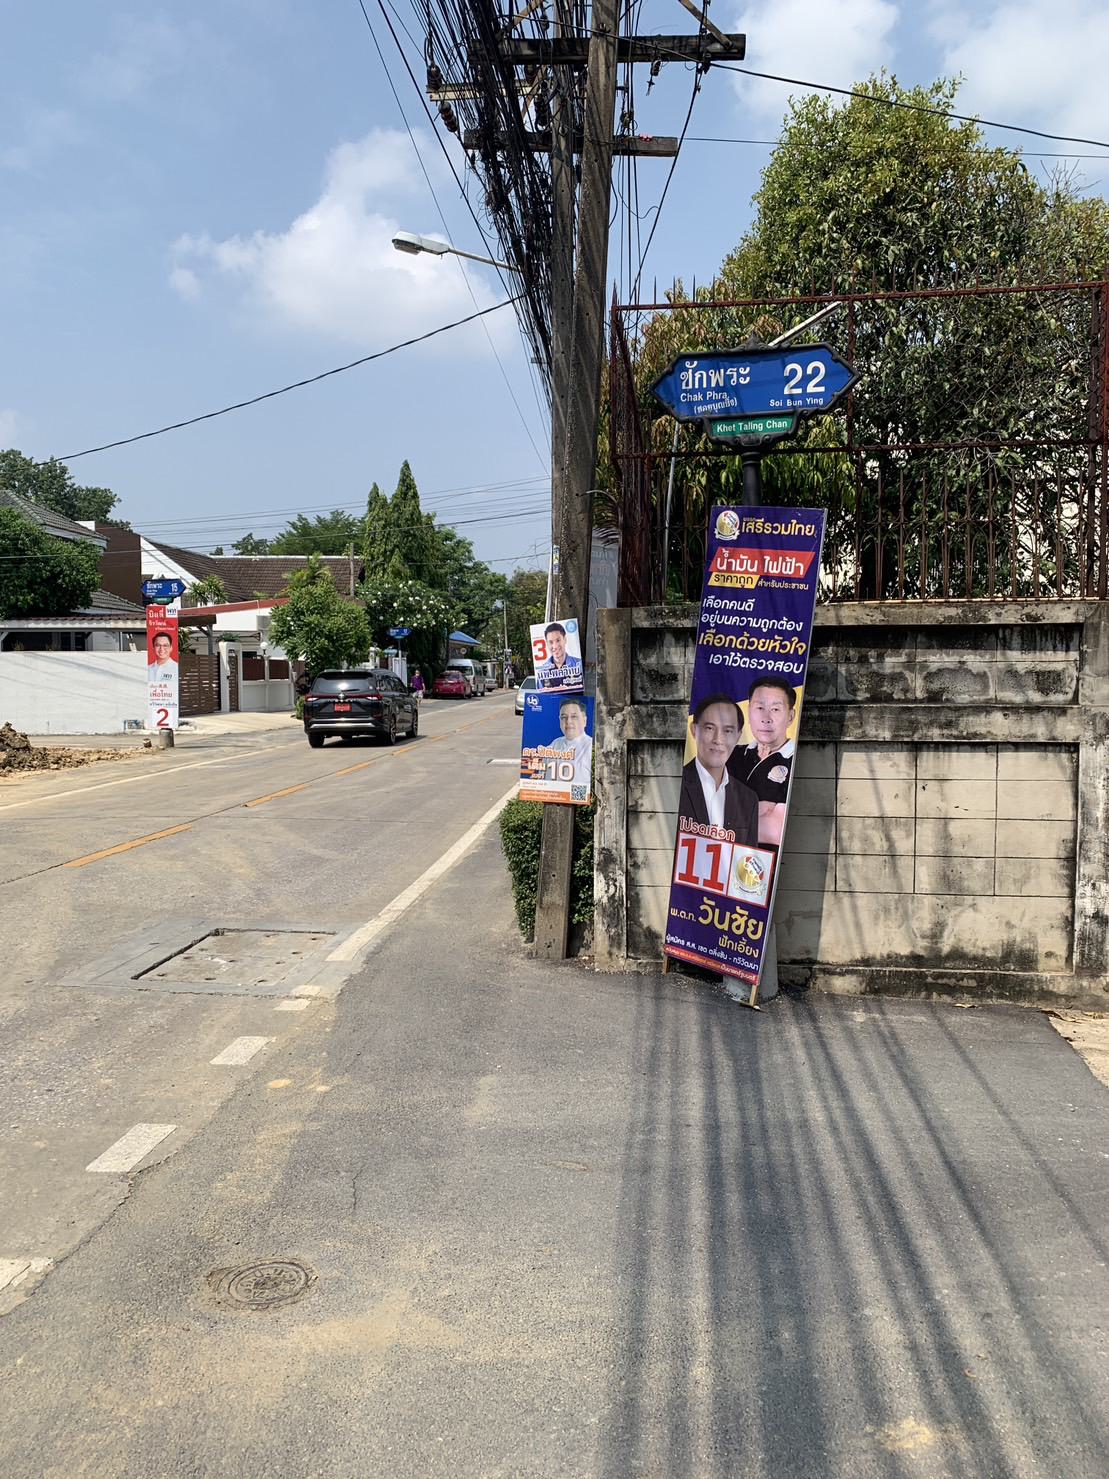Banner: (647, 489, 827, 953)
